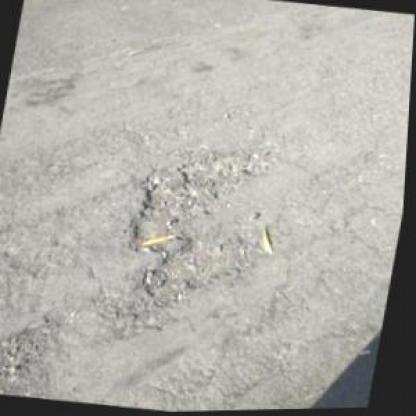pothole: (114, 138, 290, 314)
